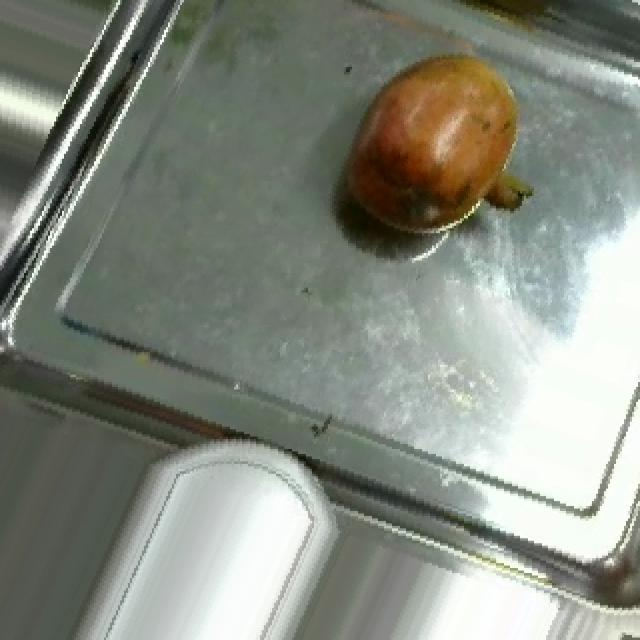fruit: (326, 32, 556, 266)
